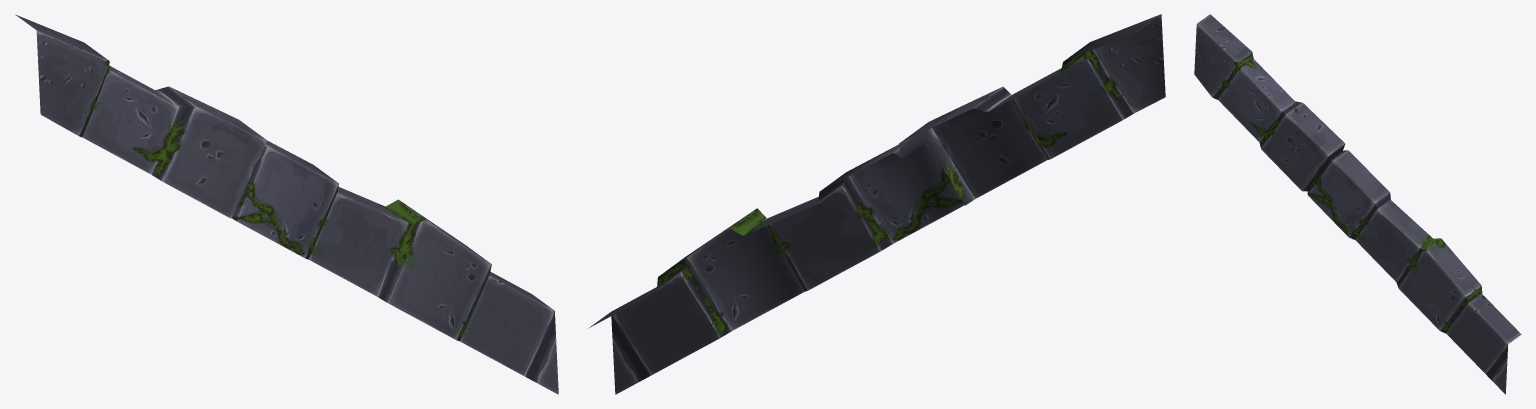
File: MOD_Stairs_01_WallTrim_L_2.fbx
3 views of the same model, side by side, from view 1: azimuth 30°, elevation 25°; view 2: azimuth 150°, elevation 25°; view 3: azimuth 330°, elevation 25° (orthographic). The views are drawn at different scales.
Parts seen in each view (by area): view 1: MOD_Stairs_01_WallTrim_L_2; view 2: MOD_Stairs_01_WallTrim_L_2; view 3: MOD_Stairs_01_WallTrim_L_2.
Boxes of the visible parts, x1=… form: MOD_Stairs_01_WallTrim_L_2: x1=15, y1=14, x2=558, y2=394; MOD_Stairs_01_WallTrim_L_2: x1=588, y1=14, x2=1165, y2=394; MOD_Stairs_01_WallTrim_L_2: x1=1194, y1=14, x2=1521, y2=394.
Size of what is drawn, in the model's own units: 400 by 360 by 42.93.
